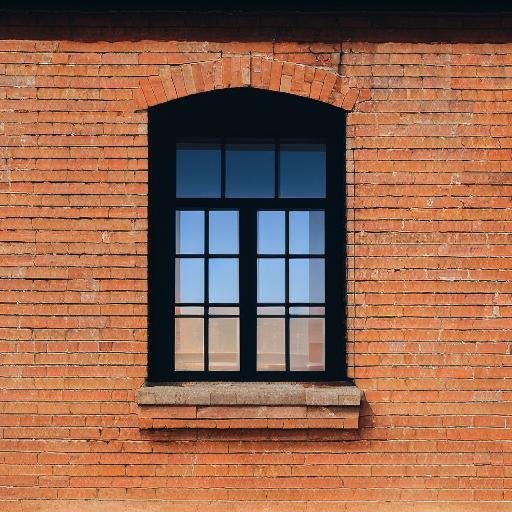Window: (136, 53, 366, 431)
